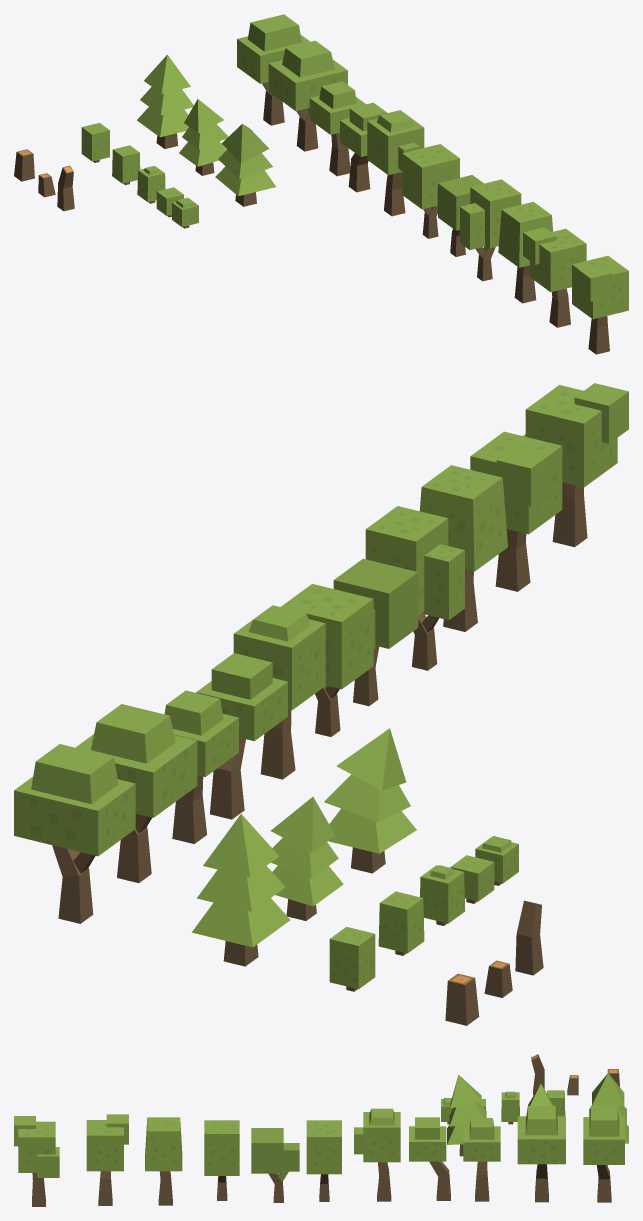
The picture shows the model from 3 angles, top to bottom: view 1: azimuth 30°, elevation 25°; view 2: azimuth 150°, elevation 25°; view 3: azimuth 270°, elevation 25°; orthographic projection. The views are drawn at different scales.
Visible parts, largest first — view 1: Tree_02, Tree_11, Tree_10, Tree_01, Tree_05, Tree_08, FirTree_01, Tree_06, FirTree_03, Tree_09, Tree_04, FirTree_02 (+9 smaller); view 2: Tree_01, Tree_02, Tree_11, FirTree_01, Tree_08, Tree_10, FirTree_03, Tree_05, Tree_09, Tree_03, Tree_06, FirTree_02 (+9 smaller); view 3: Tree_02, Tree_01, Tree_11, Tree_05, Tree_10, Tree_09, Tree_07, Tree_08, Tree_06, Tree_03, Tree_04, FirTree_03 (+6 smaller).
Part boxes in pixels (<box>): Tree_02: <box>268,40,347,151</box>; Tree_11: <box>572,255,628,354</box>; Tree_10: <box>523,227,586,327</box>; Tree_01: <box>237,14,310,125</box>; Tree_05: <box>367,110,424,216</box>; Tree_08: <box>460,179,521,281</box>; FirTree_01: <box>137,54,193,148</box>; Tree_06: <box>402,144,459,238</box>; FirTree_03: <box>215,124,275,206</box>; Tree_09: <box>498,201,552,303</box>; Tree_04: <box>309,81,365,176</box>; FirTree_02: <box>179,99,228,175</box>; Tree_01: <box>14,744,135,923</box>; Tree_02: <box>76,704,197,883</box>; Tree_11: <box>523,383,628,547</box>; FirTree_01: <box>192,814,290,966</box>; Tree_08: <box>365,506,464,670</box>; Tree_10: <box>470,431,562,591</box>; FirTree_03: <box>324,728,416,873</box>; Tree_05: <box>233,605,325,779</box>; Tree_09: <box>419,465,507,631</box>; Tree_03: <box>196,653,287,819</box>; Tree_06: <box>281,584,373,736</box>; FirTree_02: <box>270,796,343,920</box>; Tree_02: <box>517,1106,565,1202</box>; Tree_01: <box>583,1105,624,1202</box>; Tree_11: <box>14,1116,59,1206</box>; Tree_05: <box>354,1108,400,1201</box>; Tree_10: <box>86,1114,128,1205</box>; Tree_09: <box>145,1117,182,1205</box>; Tree_07: <box>251,1128,299,1202</box>; Tree_08: <box>204,1120,239,1200</box>; Tree_06: <box>306,1120,341,1201</box>; Tree_03: <box>409,1117,450,1200</box>; Tree_04: <box>463,1118,500,1201</box>; FirTree_03: <box>447,1074,486,1156</box>.
Size of the model in its own units: 1232 by 405 by 2589.
Materials: 1 (1 with a texture image).
